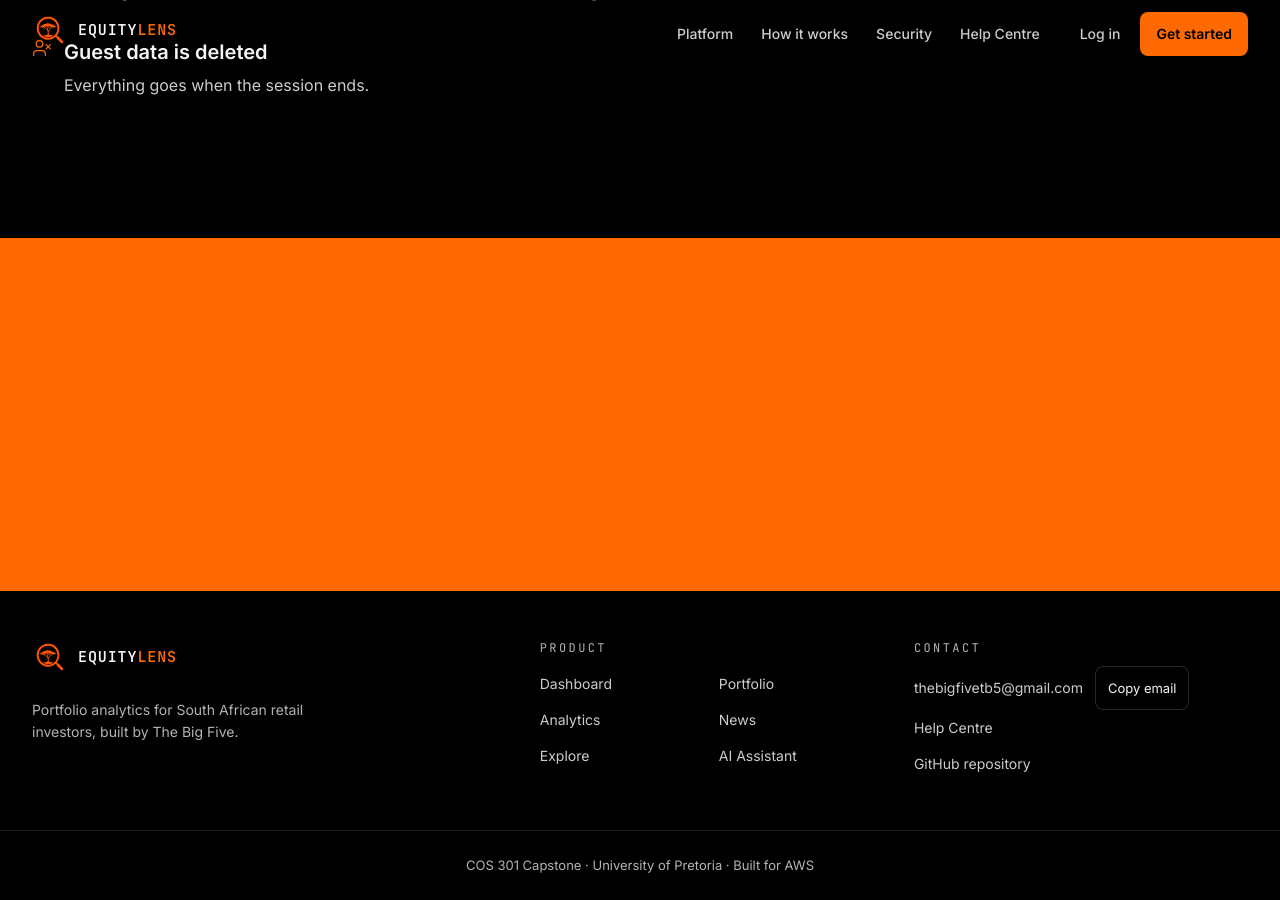
Test: Landing › copies the contact email and says so without an alert
The image size is (1280, 900).
(page scrolled)
Click the button "Copy email" at (1142,688), box [1095,666,1189,710]
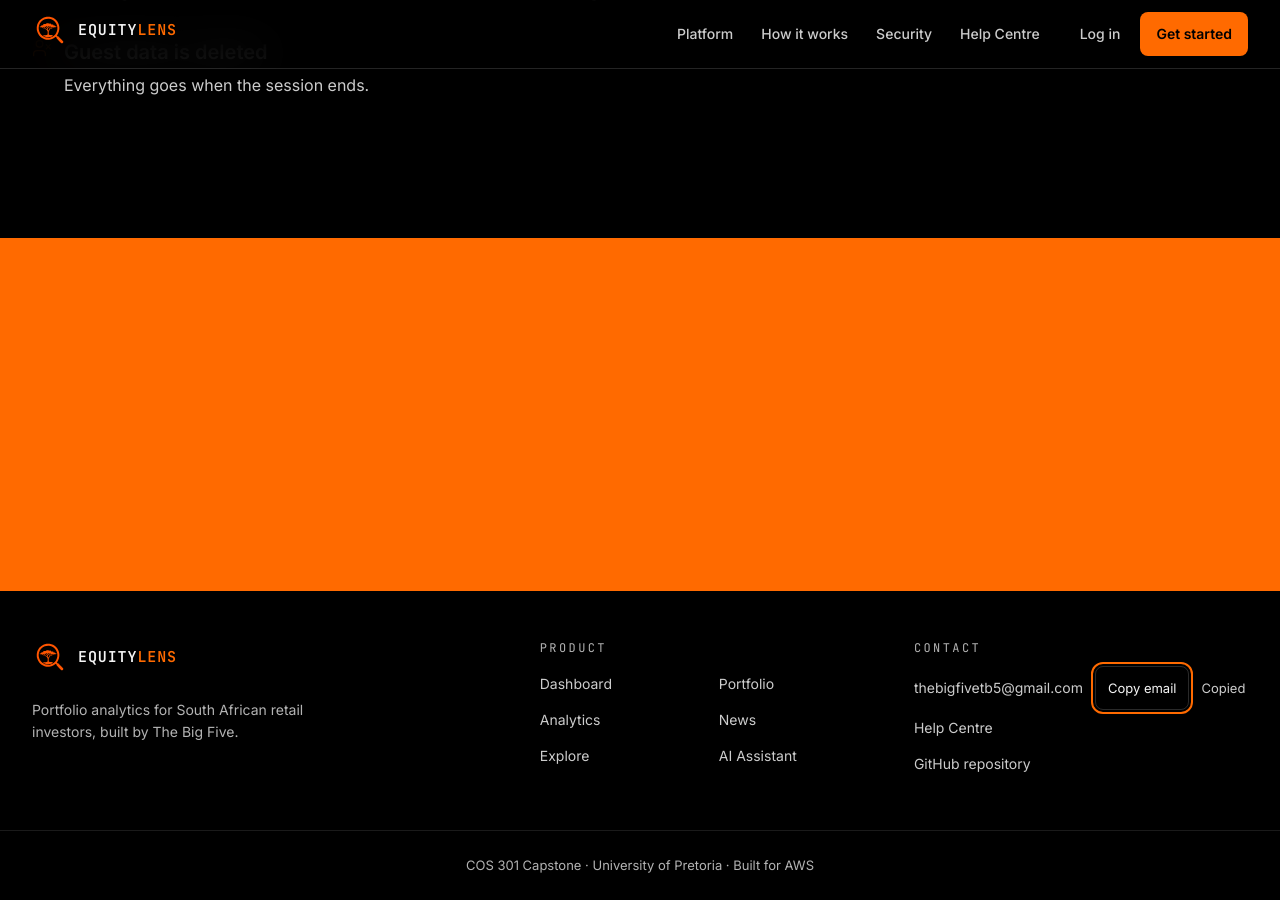
Expected: the text "Copied" is shown, [1202,678,1246,698]
